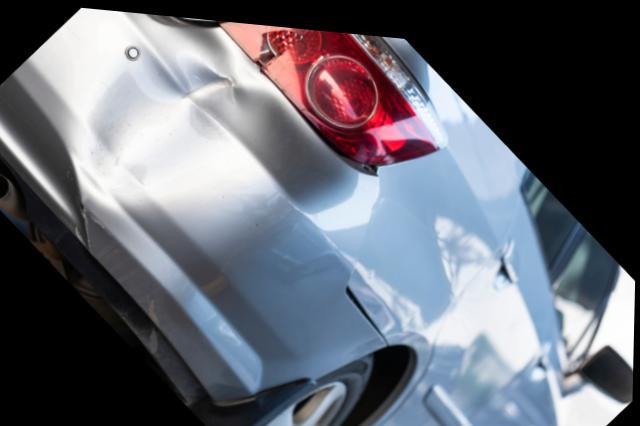dent: (81, 23, 293, 205)
dislocated part: (306, 140, 389, 375)
lamp broken: (218, 17, 450, 162)
